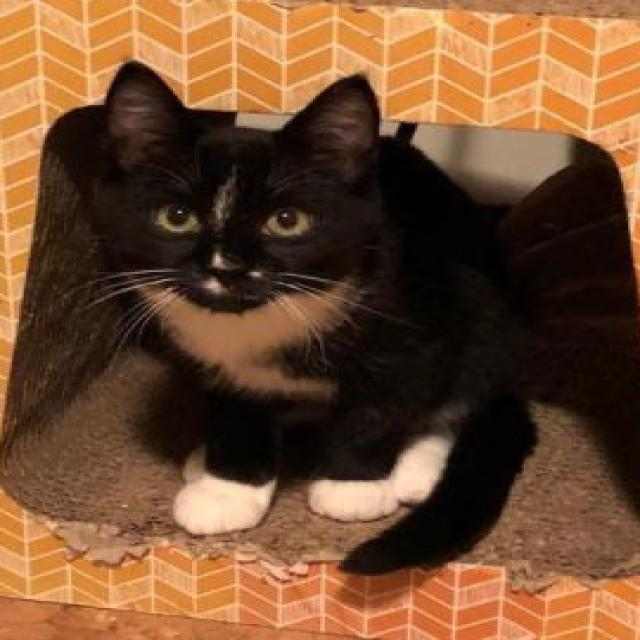Tuxedo: (87, 55, 540, 578)
